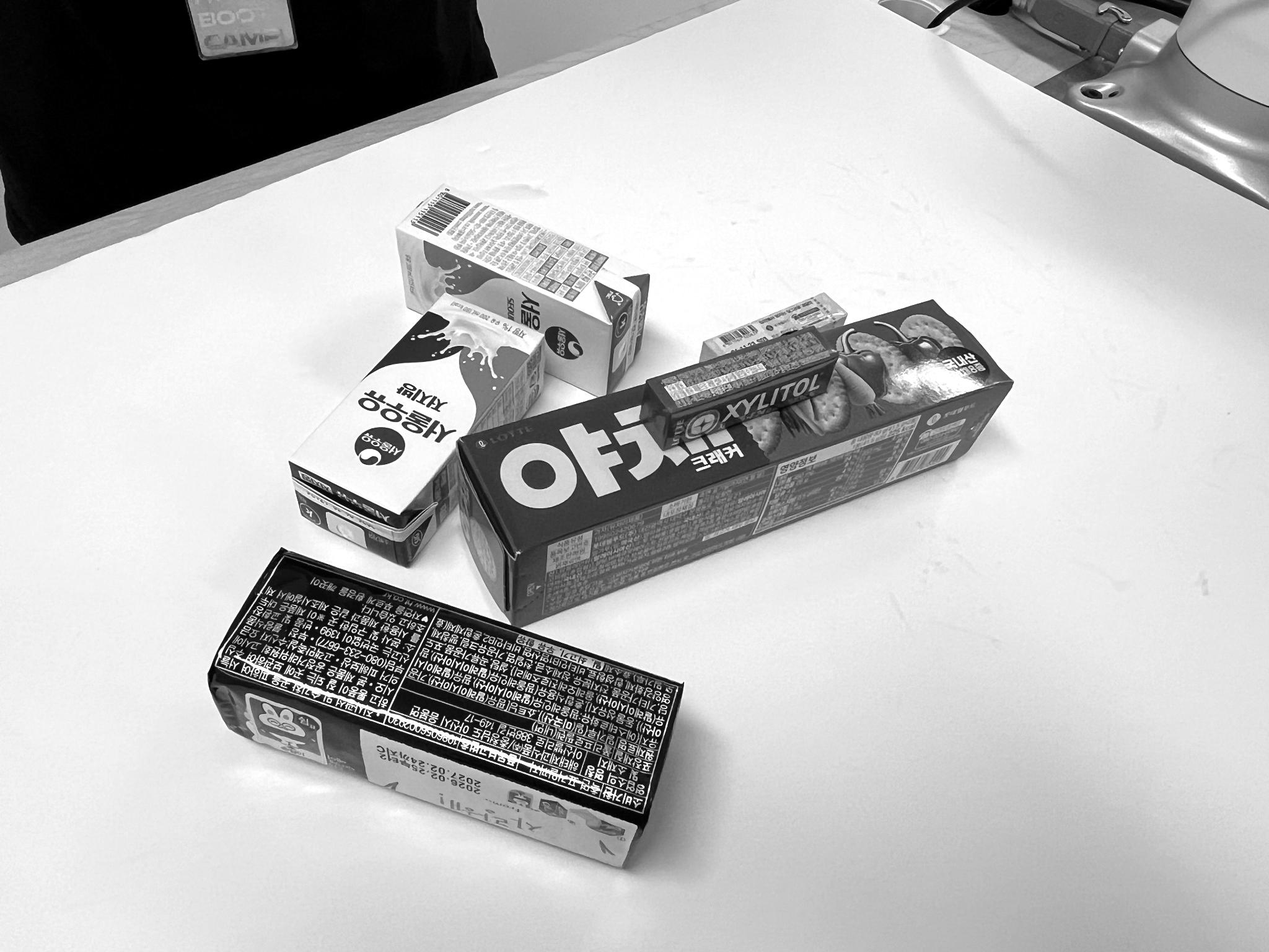cracker_ace: (203, 549, 681, 867)
cracker_vege: (460, 298, 1013, 625)
gum_green: (641, 327, 836, 448)
gum_yellow: (699, 293, 846, 361)
milk_blue: (293, 293, 544, 570)
milk_green: (392, 187, 651, 394)
